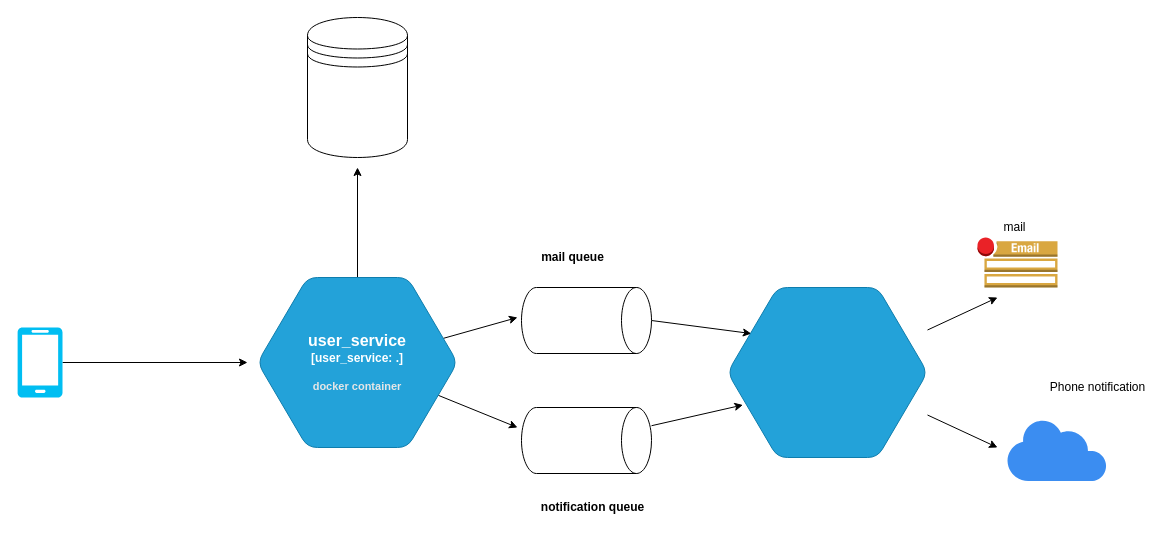
This 1169x535 diagram has some shape labels left out. The shapes that lost their labels are listed below. From the top down, each one's box as (x1, y1, x2, y2) in pixels, then its label:
(306, 16, 408, 158): database
(726, 286, 928, 458): notification_service [notification_service: .] .
